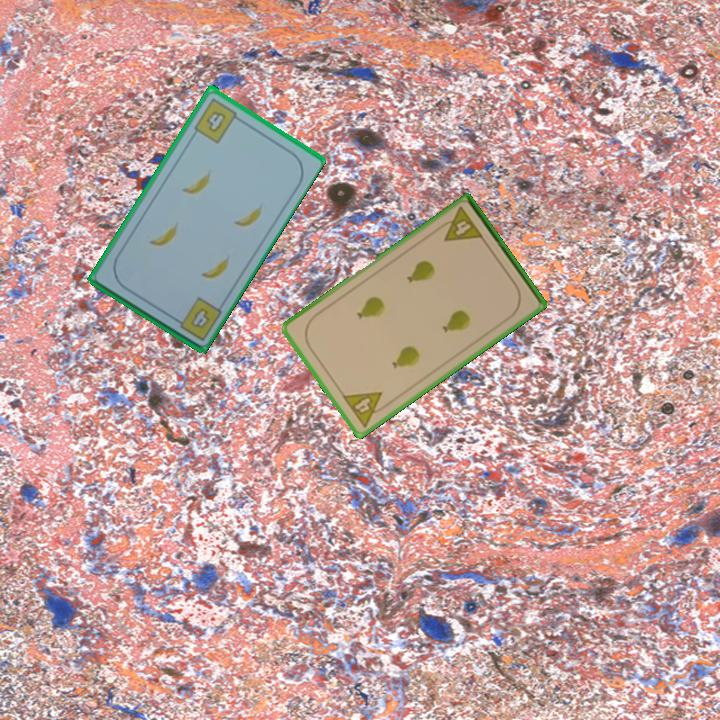4b: (190, 94, 244, 146), (169, 293, 224, 344)
4p: (339, 388, 392, 430), (434, 203, 486, 245)
